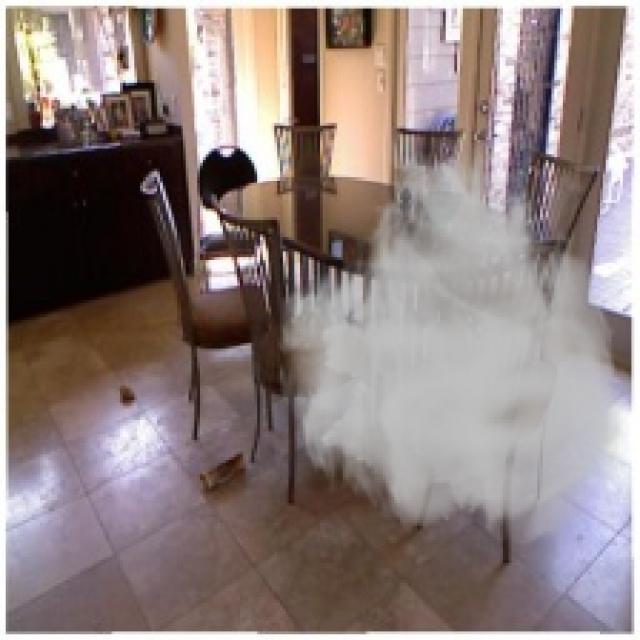smoke: (274, 132, 632, 548)
